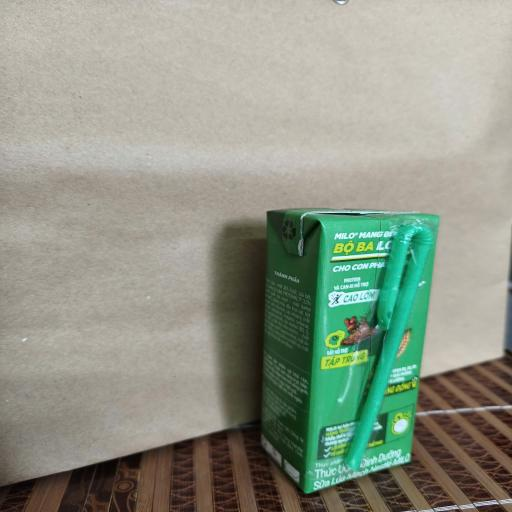milo: (260, 208, 440, 495)
